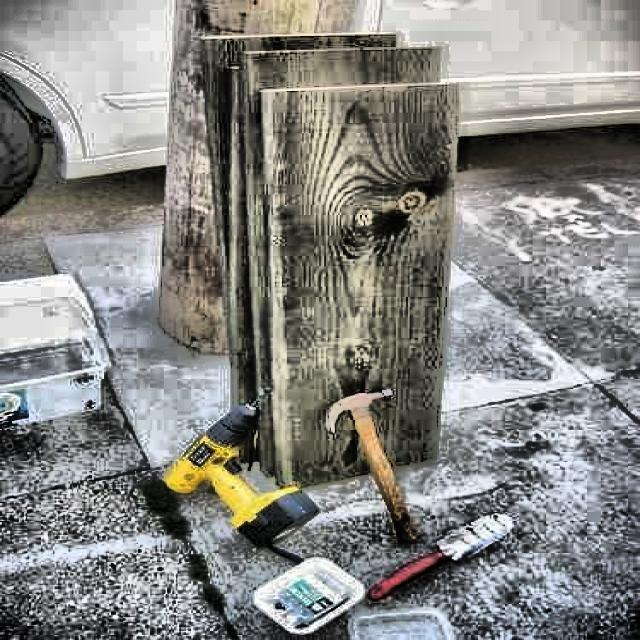hammer: (326, 388, 440, 544)
